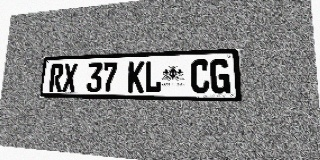3: (86, 62, 102, 92)
7: (101, 62, 118, 92)
C: (191, 59, 210, 94)
G: (210, 59, 230, 94)
K: (127, 61, 145, 93)
L: (144, 61, 162, 93)
R: (49, 64, 64, 92)
X: (62, 63, 77, 92)
